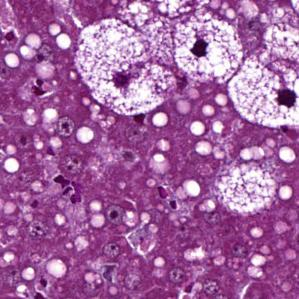ballooning: (73, 17, 169, 117), (164, 9, 250, 90), (225, 50, 296, 138)
